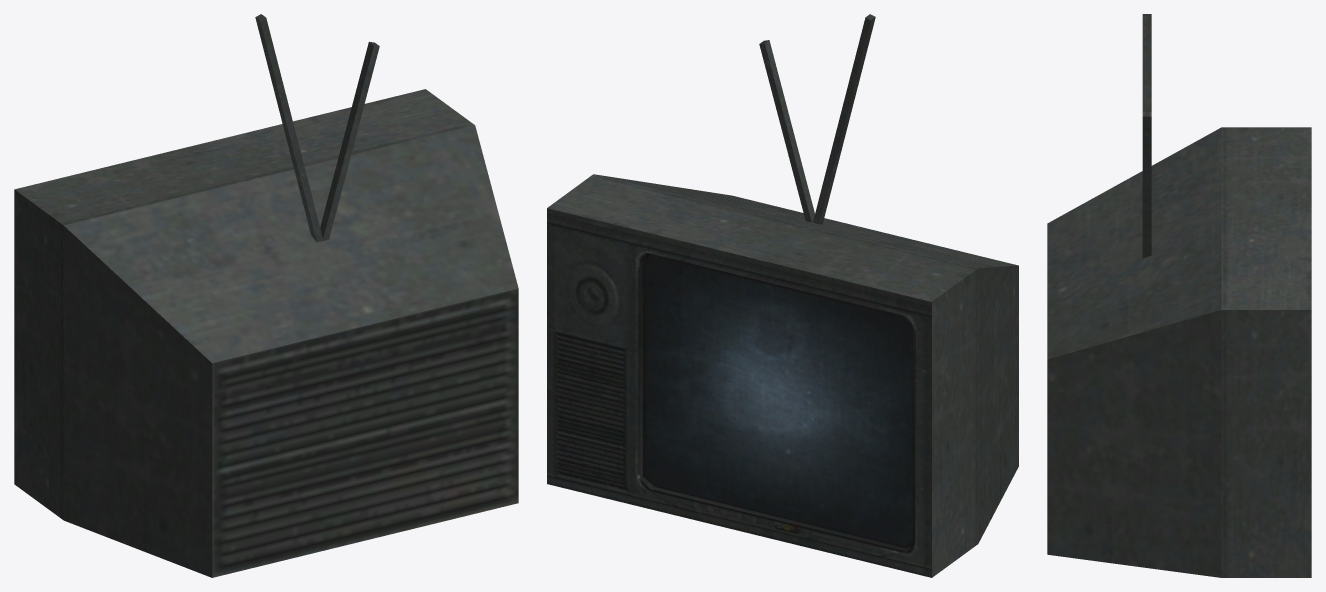
File: Prop_Tv01.glb
The picture shows the model from 3 angles, left to right: view 1: azimuth 30°, elevation 25°; view 2: azimuth 150°, elevation 25°; view 3: azimuth 270°, elevation 25°; orthographic projection. The views are drawn at different scales.
Parts seen in each view (by area): view 1: xiutz_tv_01; view 2: xiutz_tv_01; view 3: xiutz_tv_01.
Part boxes in pixels (x1,y1,x2,y2): xiutz_tv_01: [14, 14, 518, 577]; xiutz_tv_01: [547, 14, 1018, 577]; xiutz_tv_01: [1047, 14, 1311, 577].
Size of the model in its own units: 1.22 by 1.41 by 0.7467.
Materials: 1 (1 with a texture image).
